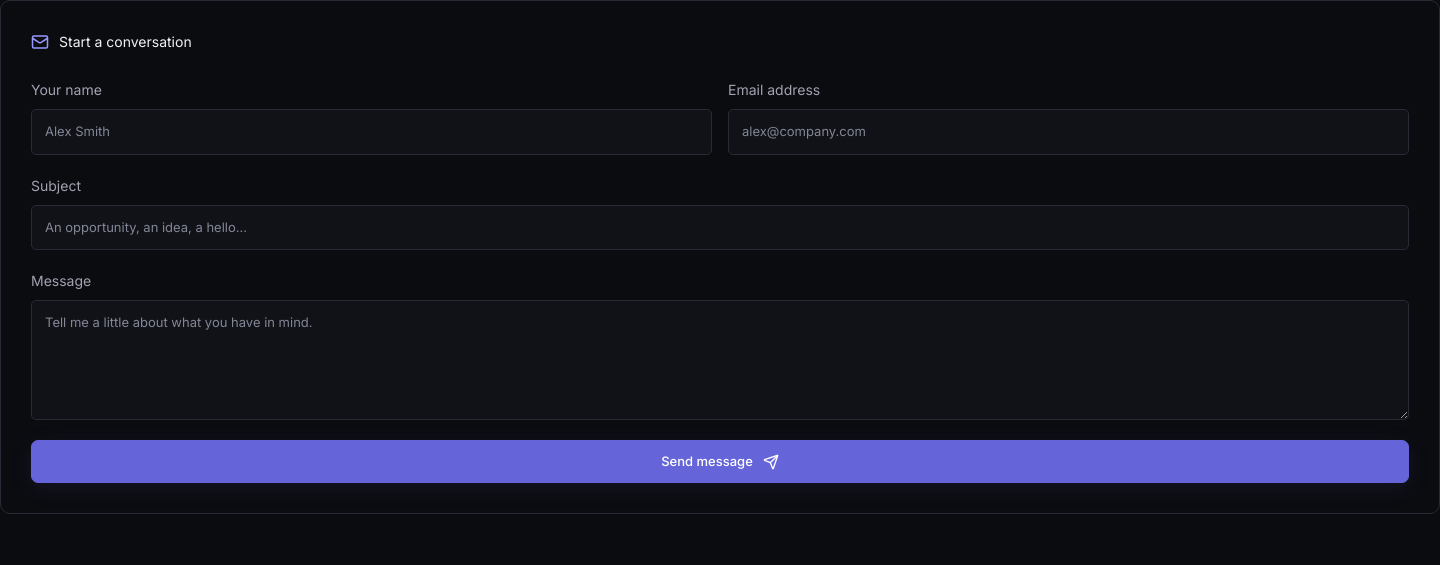
it: Portfolio behavior › preserves entered data and gives an error when the provider rejects
Type "Test Visitor" into the field labelled "Your name".
click(372, 132); type("Test Visitor")  # box [31,109,712,154]
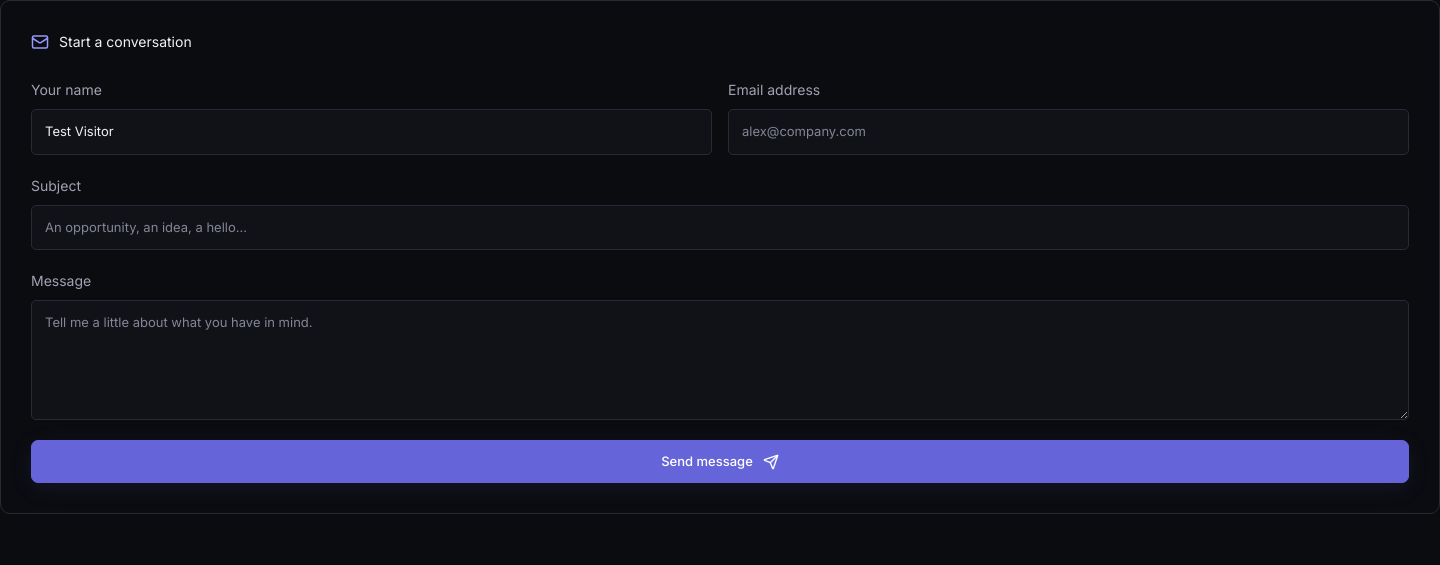
Type "test@example.com" into the field labelled "Email address".
click(1068, 132); type("test@example.com")  # box [728,109,1409,154]
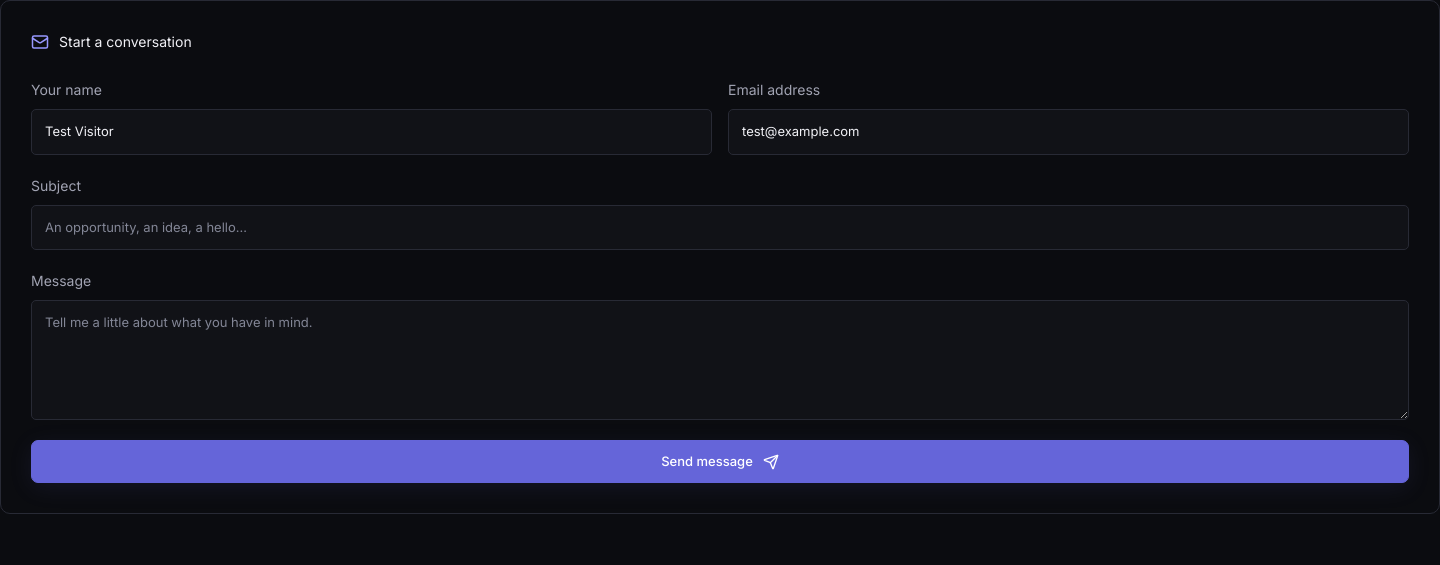
Type "Portfolio inquiry" into the field labelled "Subject".
click(720, 227); type("Portfolio inquiry")  # box [31,204,1409,250]
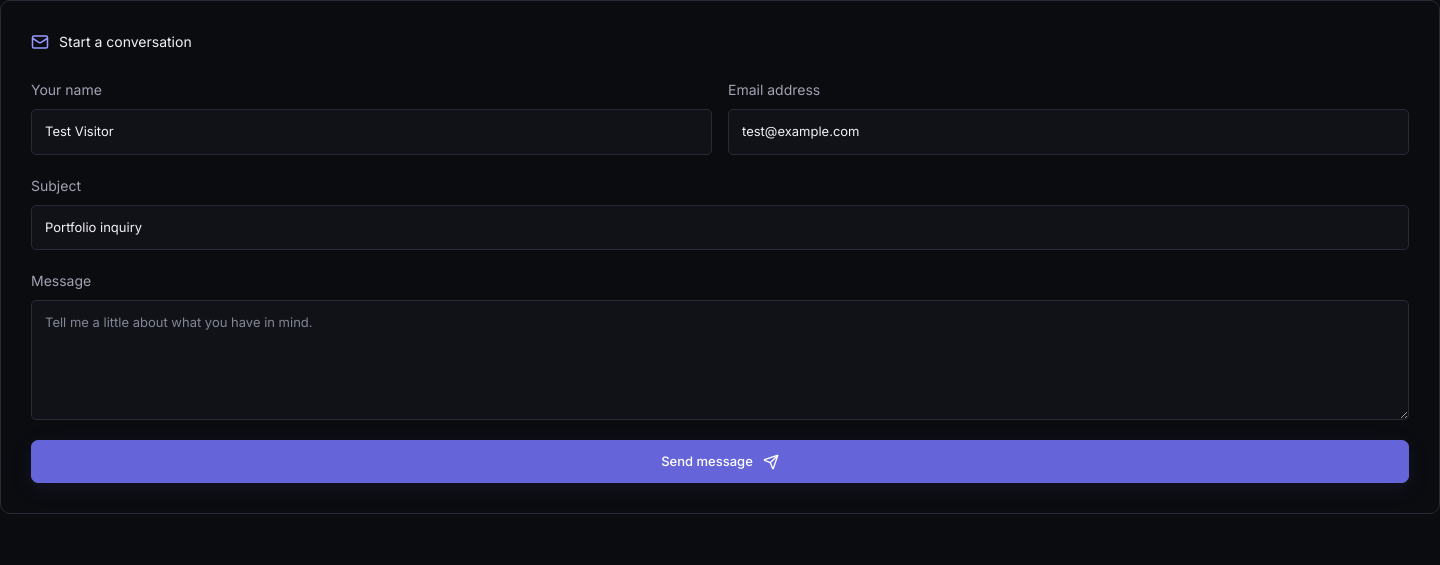
Type "This is a test inquiry, not a real message." into the text box labelled "Message".
click(720, 360); type("This is a test inquiry, not a real message.")  # box [31,300,1409,420]
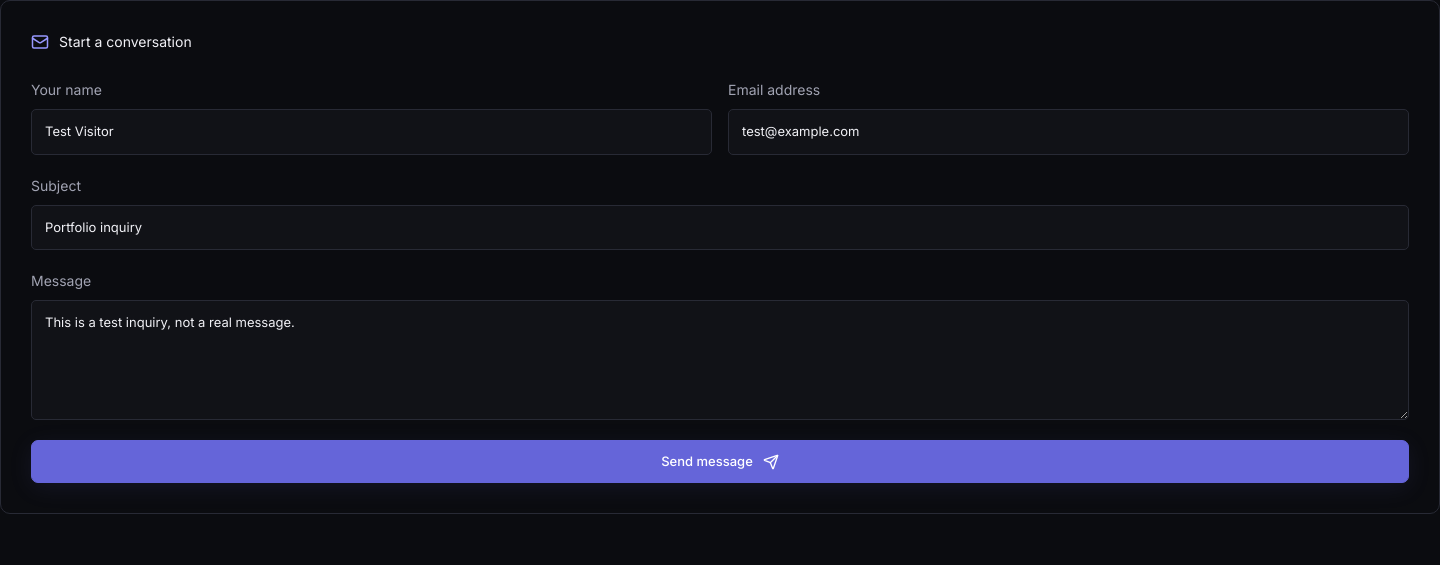
Submit the form "Send message"
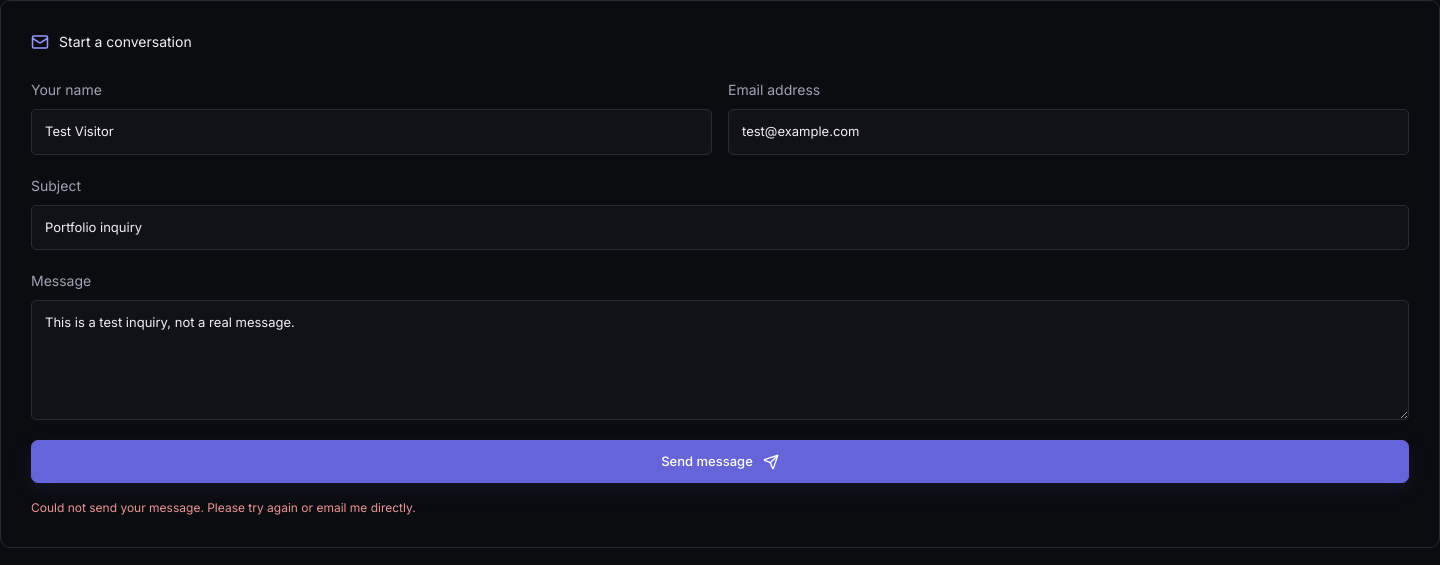
Result: the message shows "Could not send" at [31,500,416,515]
